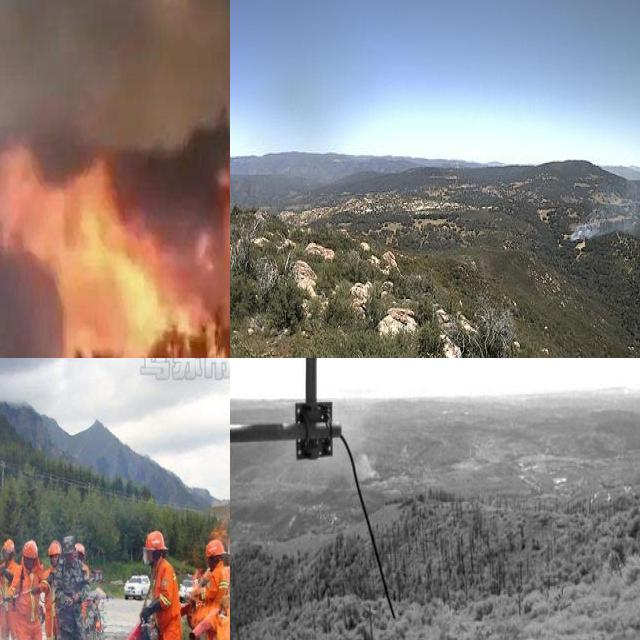fire: (0, 135, 230, 358), (74, 518, 230, 640)
smoke: (0, 0, 230, 134), (567, 188, 640, 241), (336, 402, 376, 486)
